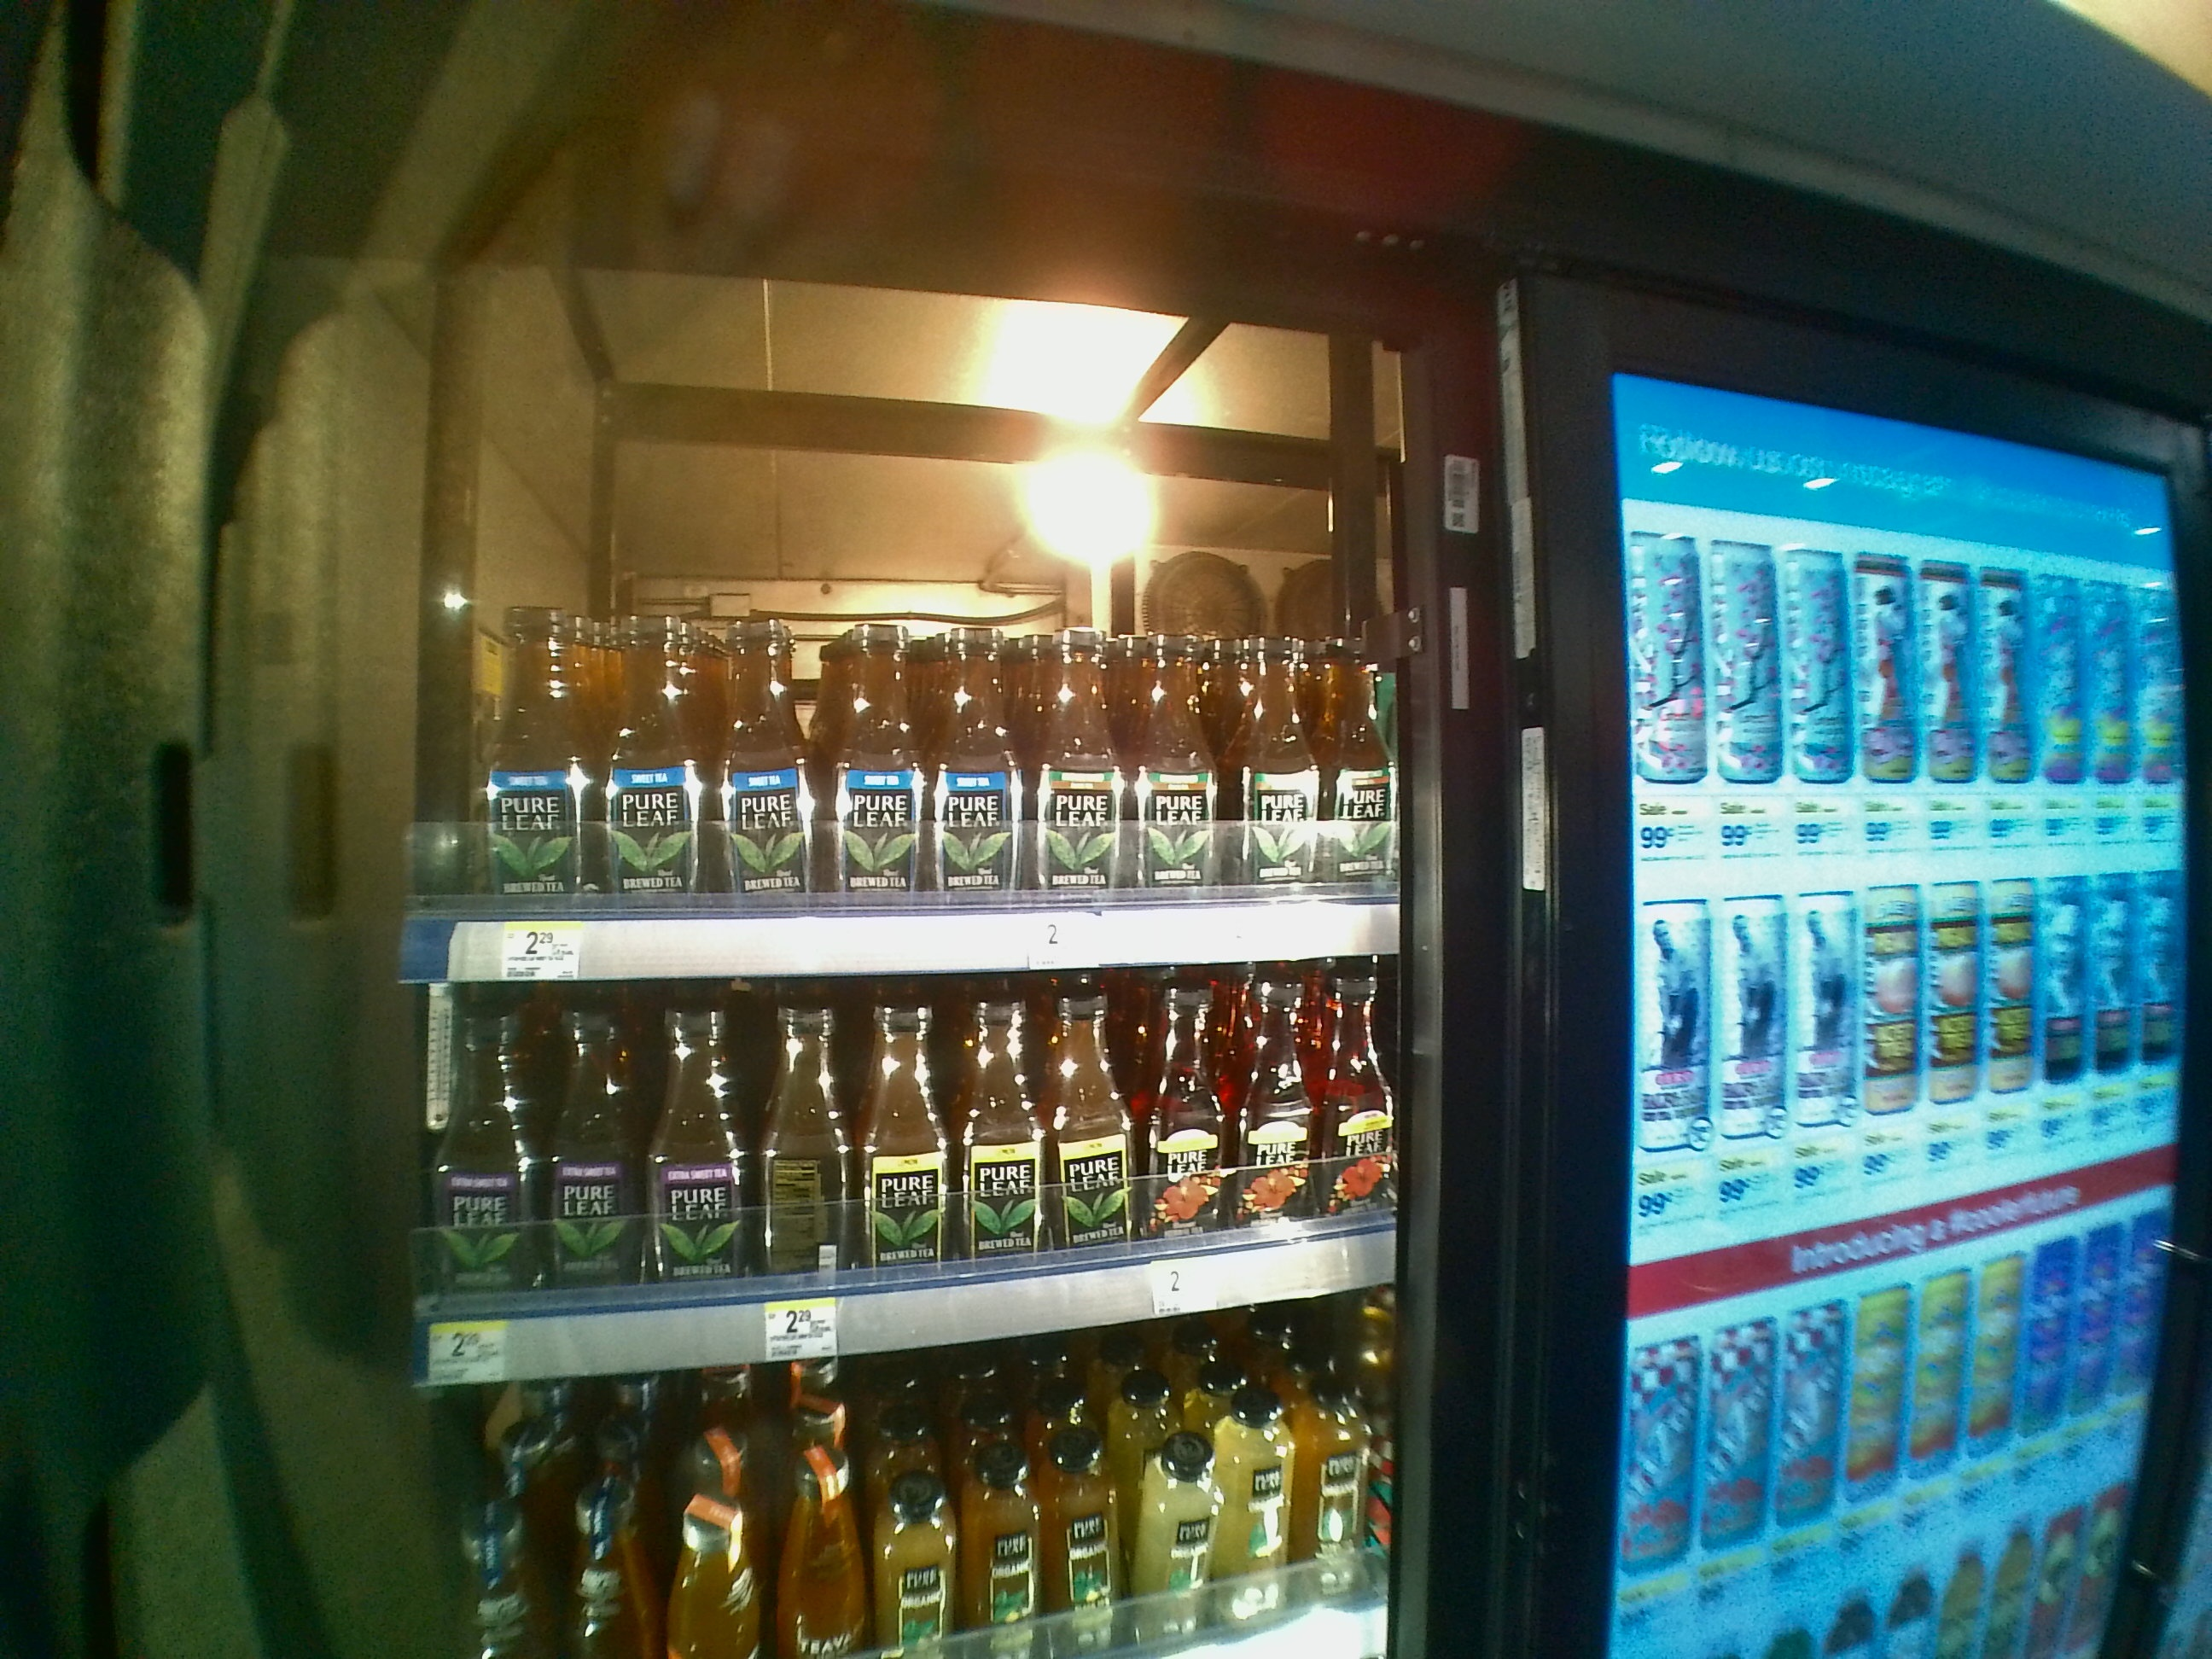shelf: (401, 404, 1406, 978), (406, 985, 1416, 1394)
